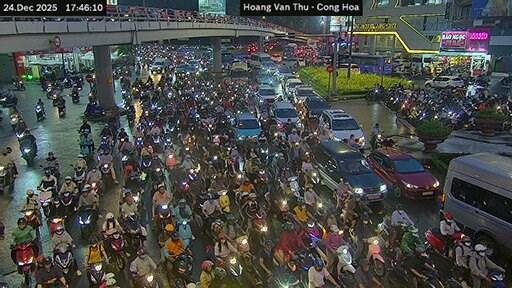motorbike: (226, 255, 259, 286), (426, 228, 460, 256), (13, 243, 34, 286), (336, 244, 355, 286), (122, 212, 144, 247), (365, 235, 384, 275), (108, 233, 125, 270), (54, 243, 73, 275), (77, 206, 95, 238), (173, 252, 192, 282), (86, 262, 105, 287), (176, 220, 192, 246), (253, 167, 268, 193), (157, 203, 172, 229), (22, 208, 39, 229), (39, 187, 51, 216), (60, 190, 74, 214), (0, 163, 12, 190), (134, 274, 160, 286), (48, 216, 64, 235), (99, 162, 112, 185), (73, 166, 85, 189), (150, 166, 163, 184), (288, 176, 299, 197), (9, 112, 21, 130), (99, 135, 111, 152), (140, 154, 150, 172), (150, 134, 160, 151), (166, 153, 176, 170), (188, 163, 198, 180), (307, 169, 319, 183), (134, 135, 143, 153), (35, 104, 44, 120), (12, 80, 25, 89), (163, 136, 171, 148), (71, 90, 79, 102), (57, 103, 64, 116)
